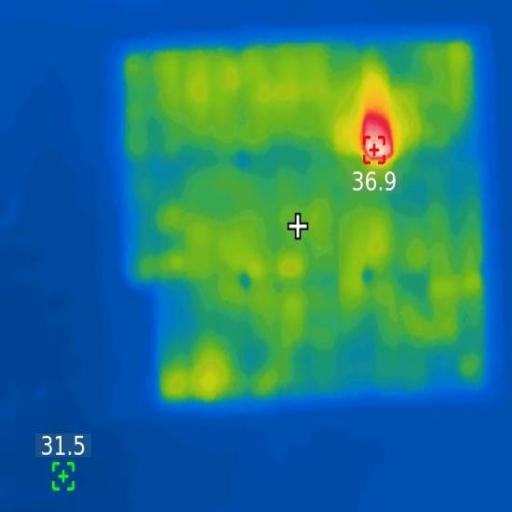hotspot: (356, 98, 396, 168)
